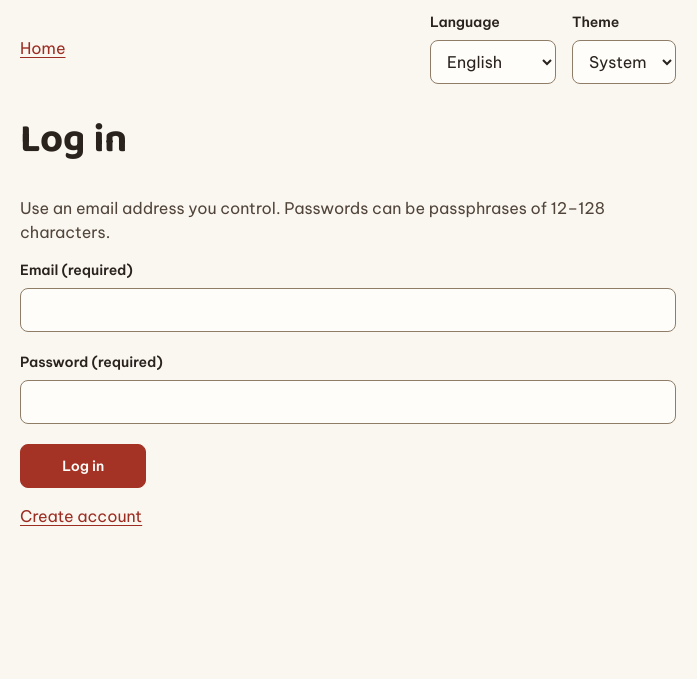
identity forms and account UI › associates validation errors with labels, preserves passphrases and renders generic login failure
Submit the form named "Email (required)", box x1=20 y1=196 x2=676 y2=528
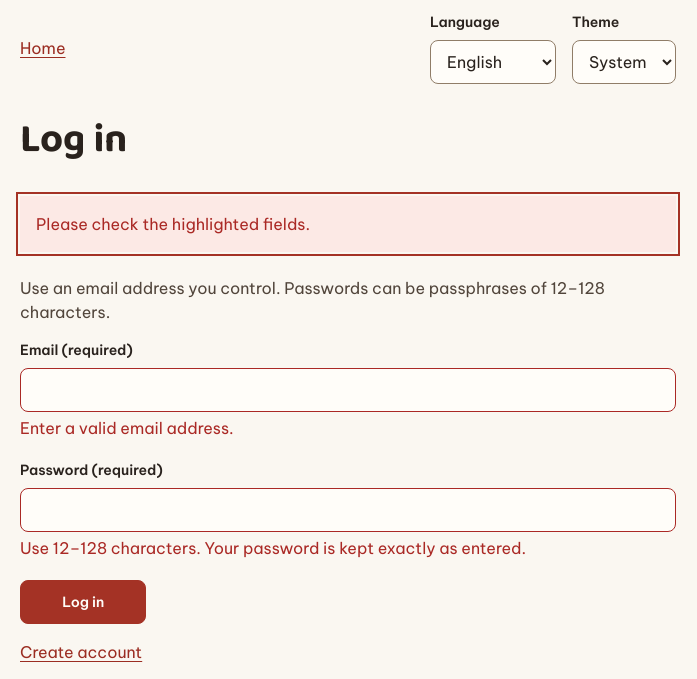
Expected: the password field labelled "Password (required)" has attribute aria-describedby="identity-password-error", x1=20 y1=488 x2=676 y2=532
Type "demo@example.invalid" into the field labelled "Email (required)" at (348, 390), box x1=20 y1=368 x2=676 y2=412
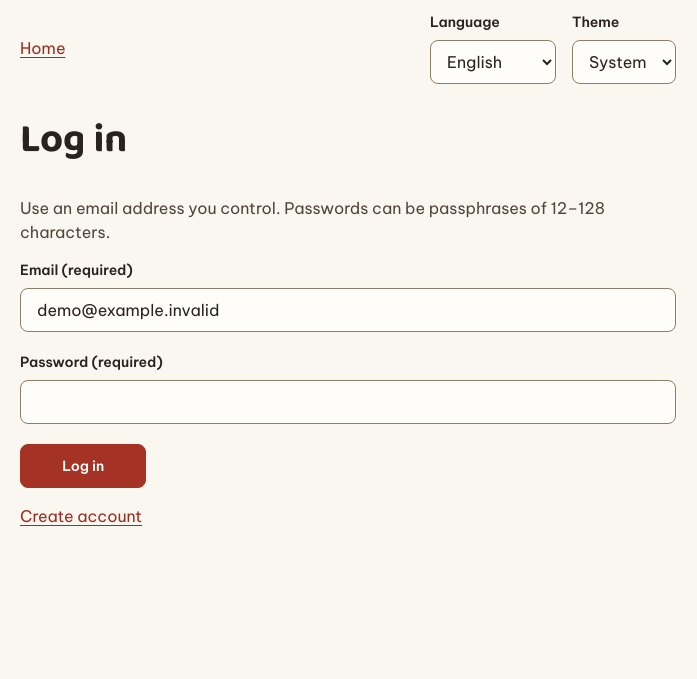
Type "  TEST ONLY passphrase  " into the password field labelled "Password (required)" at (348, 402), box x1=20 y1=380 x2=676 y2=424
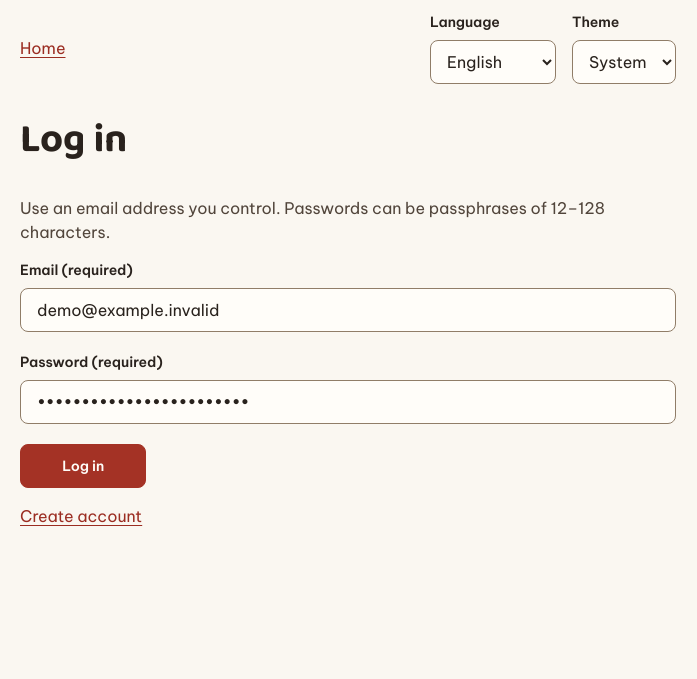
Submit the form named "Email (required)", box x1=20 y1=196 x2=676 y2=528
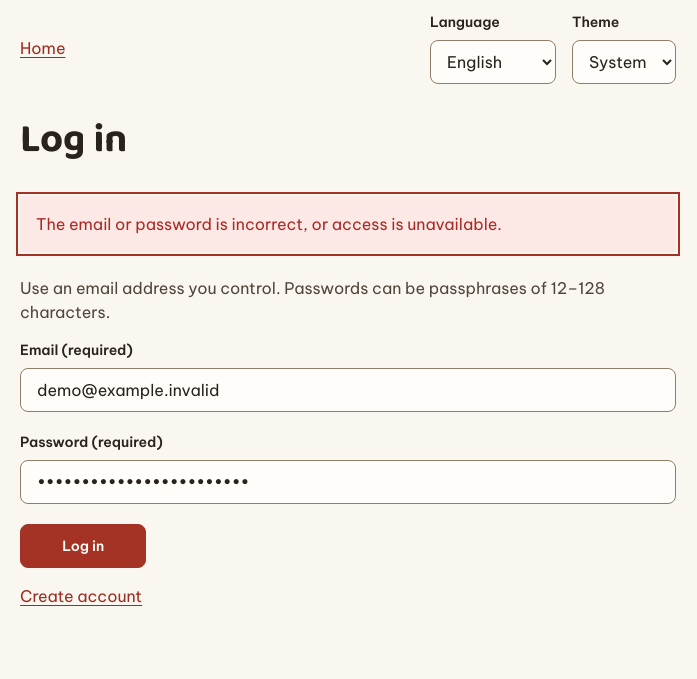
Expected: the text "The email or password is incorrect, or access is unavailable." is shown, x1=20 y1=196 x2=676 y2=252
